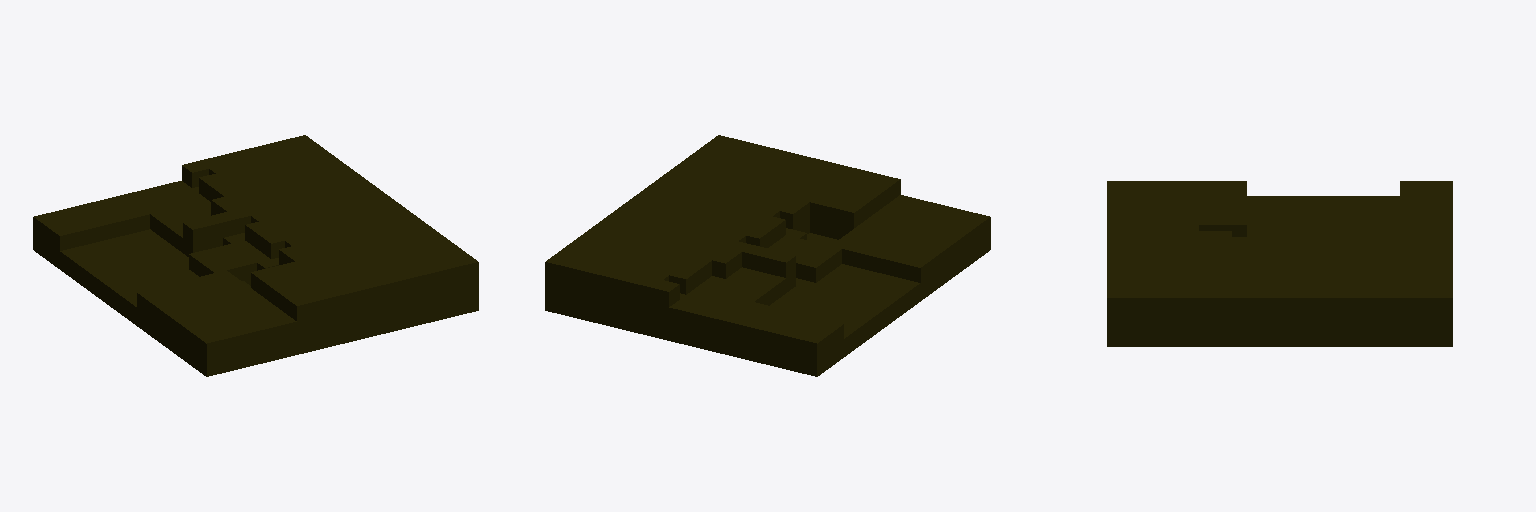
The model's file is dungeon1_ground.obj.
3 views of the same model, side by side, from view 1: azimuth 30°, elevation 25°; view 2: azimuth 150°, elevation 25°; view 3: azimuth 270°, elevation 25° (orthographic).
Parts seen in each view (by area): view 1: Plane.021; view 2: Plane.021; view 3: Plane.021.
Boxes of the visible parts, x1,y1,x2,y2 form: Plane.021: [33, 135, 478, 376]; Plane.021: [545, 135, 990, 376]; Plane.021: [1107, 181, 1452, 346].
Size of the model in its own units: 22.38 by 3.85 by 24.7.